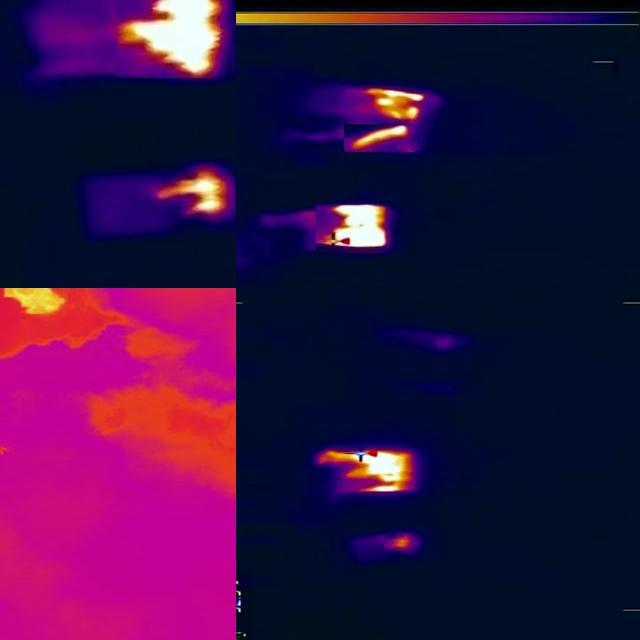fire: (117, 1, 233, 78), (147, 165, 235, 217), (315, 448, 413, 492), (317, 204, 391, 251), (356, 85, 424, 121), (1, 289, 73, 318), (345, 124, 415, 152), (386, 534, 418, 551)
